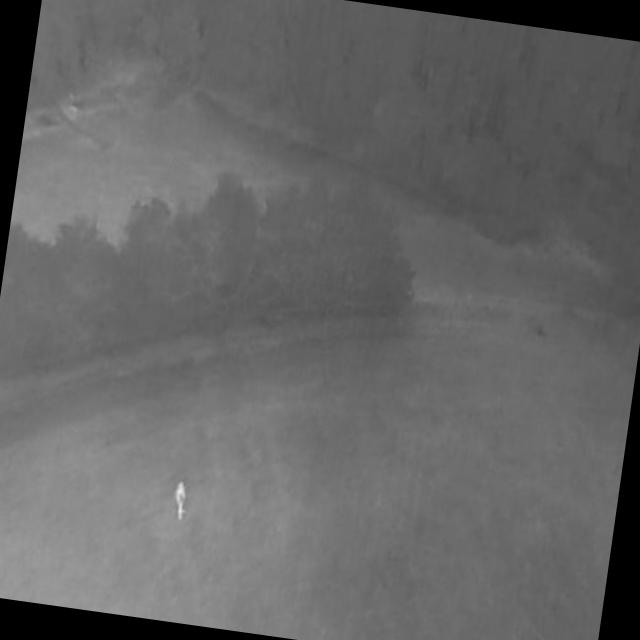person: (174, 483, 190, 523)
